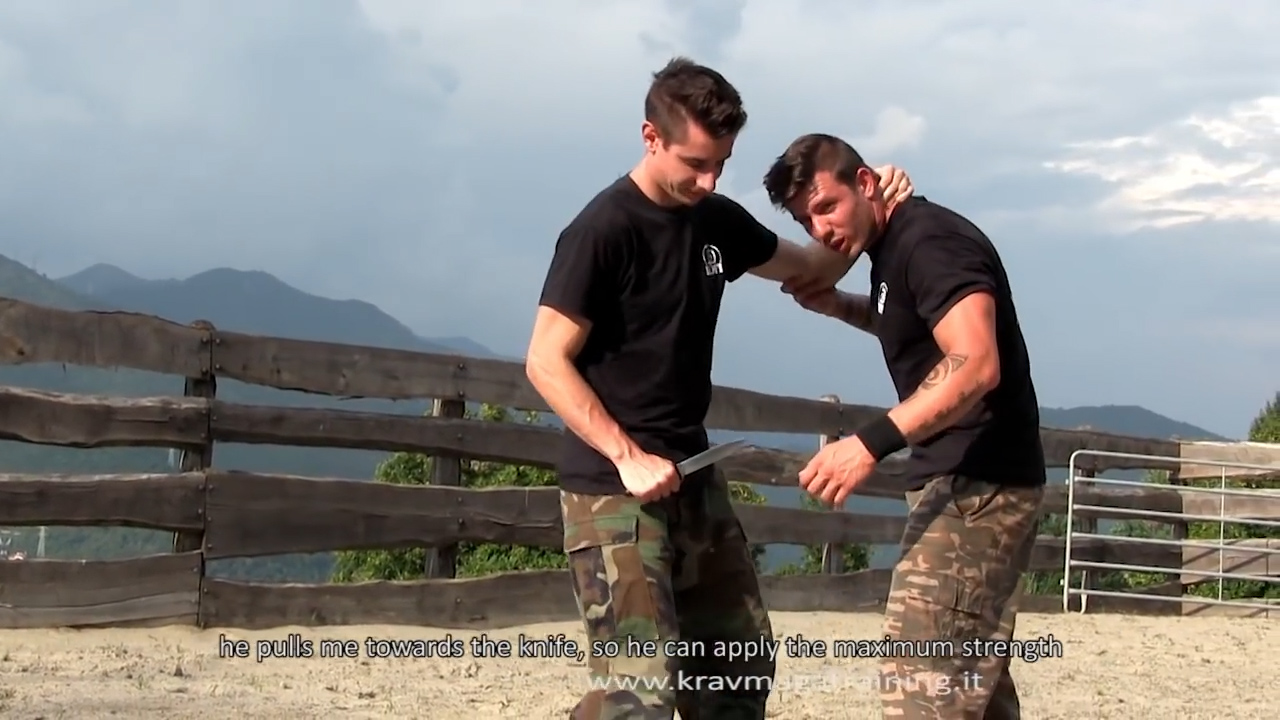knife: (622, 430, 754, 508)
